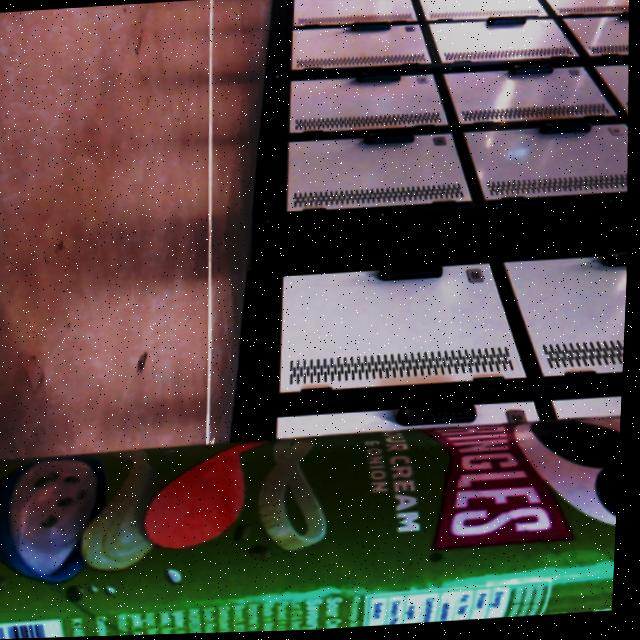greenpringles: (0, 386, 626, 640)
